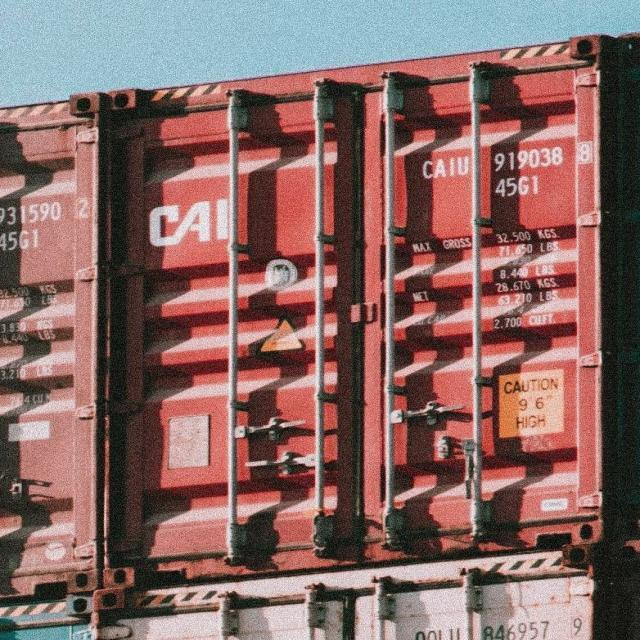ISO: (496, 175, 544, 197)
container_number: (417, 153, 571, 172)
